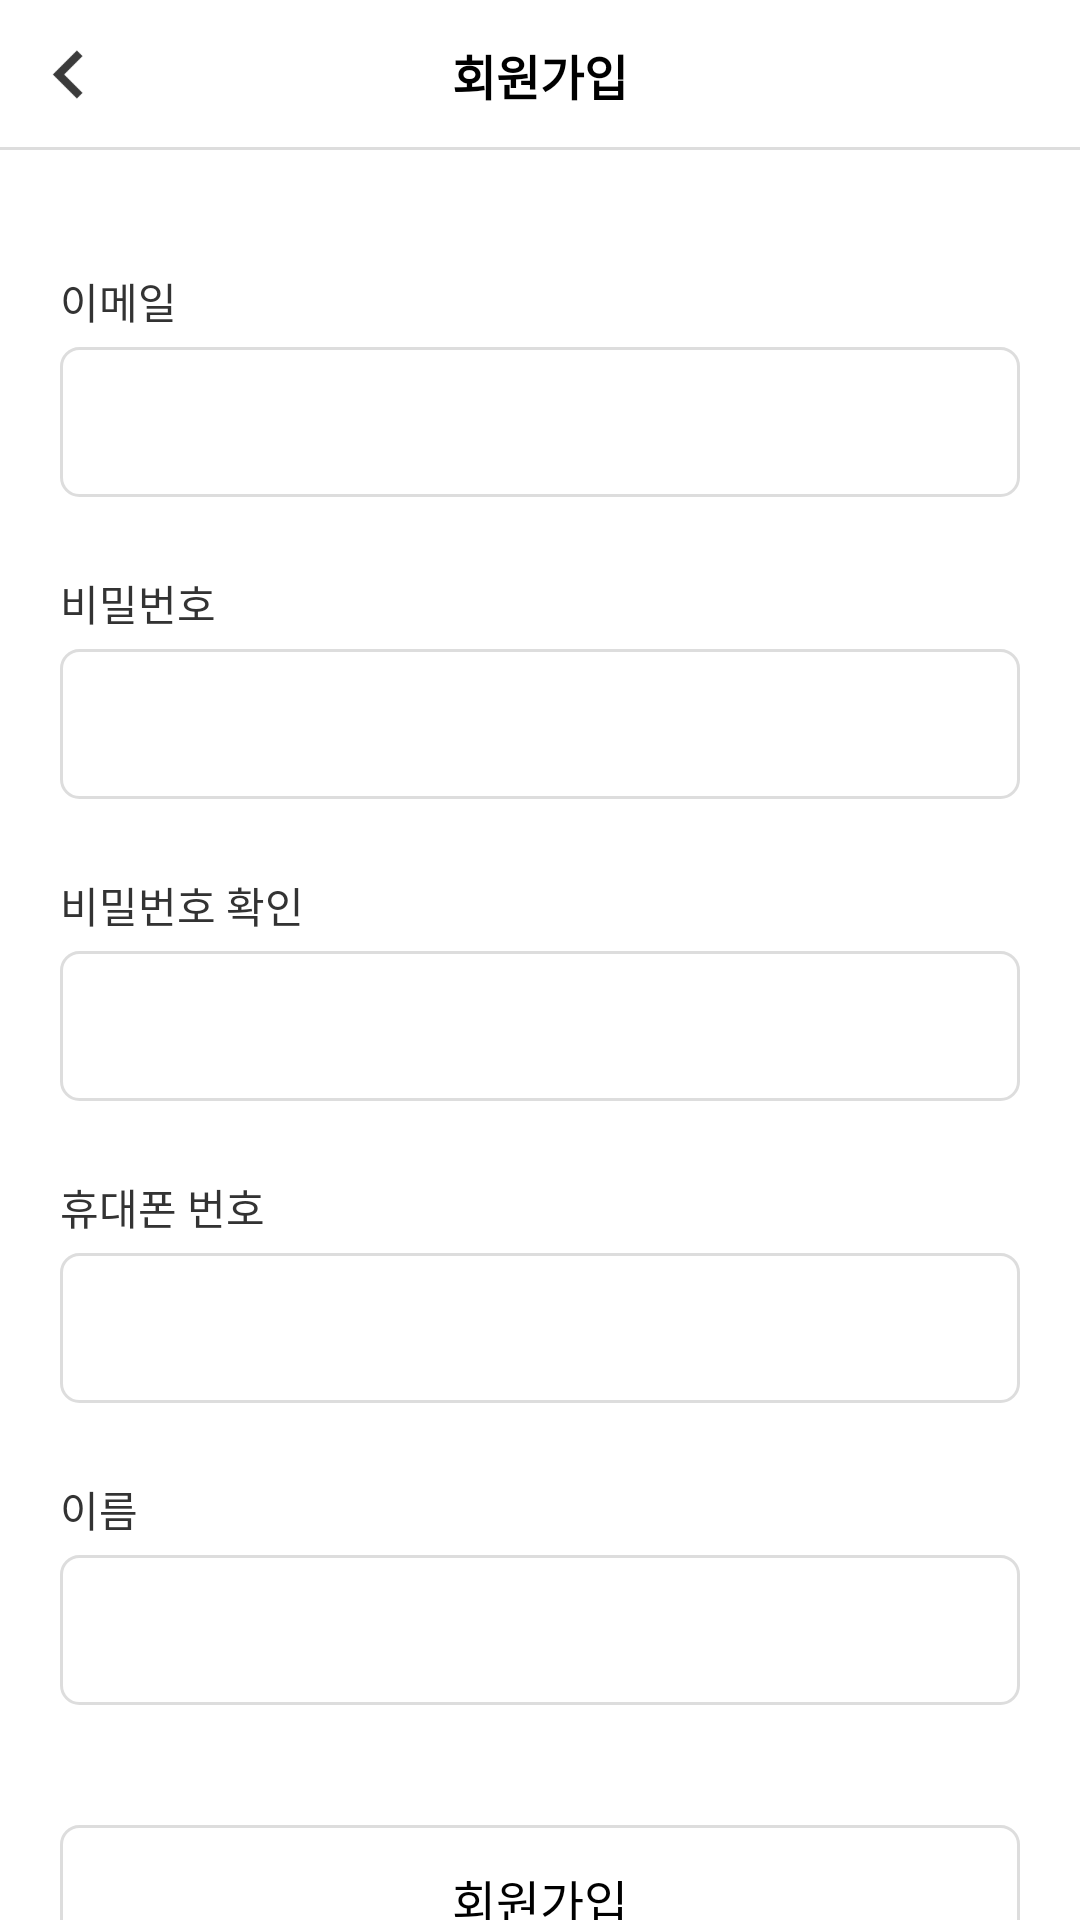

Screen size 1080*1920. Icon name, then its box in pixels as BBox(x1, y1, x2, y2):
arrow: BBox(53, 50, 83, 99)
